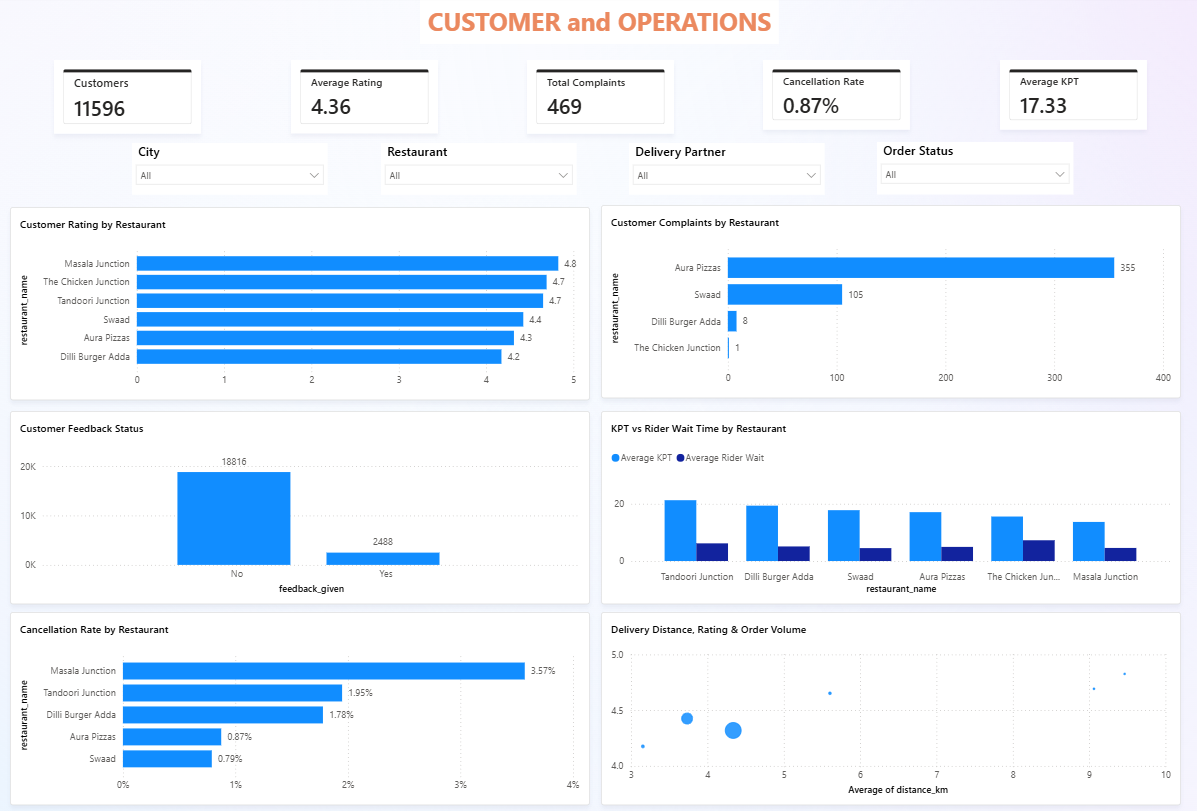

This screenshot's page, from the dashboard's own definition file:
{"tool":"powerbi","page":{"name":"Customer & Operations","canvas":[1550,1050],"ordinal":2},"visuals":[{"type":"textbox","box":[542.9,0,464.3,57.1],"z":0},{"type":"cardVisual","fields":{"Data":["order_history_clean_.Total Customers"]},"box":[70,77.1,190,95.7],"z":1000},{"type":"cardVisual","fields":{"Data":["order_history_clean_.Average Rating"]},"box":[375.7,77.1,190,95],"z":2000},{"type":"cardVisual","fields":{"Data":["order_history_clean_.Total Complaints"]},"box":[681.4,77.1,190,95.7],"z":3000},{"type":"cardVisual","fields":{"Data":["order_history_clean_.Cancellation Rate"]},"box":[987.1,77.1,190,90],"z":4000},{"type":"cardVisual","fields":{"Data":["order_history_clean_.Average KPT"]},"box":[1292.9,77.1,190,90],"z":5000},{"type":"barChart","title":"Customer Rating by Restaurant","fields":{"Category":["order_history_clean_.restaurant_name"],"Y":["Avg(order_history_clean_.rating_clean)"]},"box":[12.9,267.1,750,250],"z":6000},{"type":"barChart","title":"Customer Complaints by Restaurant","fields":{"Category":["order_history_clean_.restaurant_name"],"Y":["order_history_clean_.Total Complaints"]},"box":[777.1,265.7,750,250],"z":7000},{"type":"clusteredColumnChart","title":"KPT vs Rider Wait Time by Restaurant","fields":{"Category":["order_history_clean_.restaurant_name"],"Y":["order_history_clean_.Average KPT","order_history_clean_.Average Rider Wait"]},"box":[777.1,531.4,750,250],"z":8000},{"type":"barChart","title":"Cancellation Rate by Restaurant","fields":{"Category":["order_history_clean_.restaurant_name"],"Y":["order_history_clean_.Cancellation Rate"]},"box":[13,792,750,250],"z":9000},{"type":"scatterChart","title":"Delivery Distance, Rating & Order Volume","fields":{"X":["Avg(order_history_clean_.distance_km)"],"Y":["Avg(order_history_clean_.rating_clean)"],"Size":["order_history_clean_.Total Orders"],"Category":["order_history_clean_.restaurant_name"]},"box":[777,792,750,250],"z":10000},{"type":"slicer","fields":{"Values":["order_history_clean_.city"]},"box":[171.2,185,253,67],"z":11000},{"type":"slicer","fields":{"Values":["order_history_clean_.restaurant_name"]},"box":[492.1,185,253,67],"z":12000},{"type":"slicer","fields":{"Values":["order_history_clean_.delivery_partner"]},"box":[812.9,185,253,67],"z":13000},{"type":"slicer","fields":{"Values":["order_history_clean_.order_status"]},"box":[1133.8,183.8,253.8,67.5],"z":14000},{"type":"clusteredColumnChart","title":"Customer Feedback Status","fields":{"Category":["order_history_clean_.feedback_given"],"Y":["order_history_clean_.Total Orders"]},"box":[13,531,750,250],"z":15000}]}

Visuals, with their boxes in screenshot pixels (x1, y1, x2, y2), scaled from the page's 1550x1050 canvas onto the 1197x811 screenshot:
textbox: x1=419 y1=0 x2=778 y2=44
cardVisual - order_history_clean_.Total Customers: x1=54 y1=60 x2=201 y2=133
cardVisual - order_history_clean_.Average Rating: x1=290 y1=60 x2=437 y2=133
cardVisual - order_history_clean_.Total Complaints: x1=526 y1=60 x2=673 y2=133
cardVisual - order_history_clean_.Cancellation Rate: x1=762 y1=60 x2=909 y2=129
cardVisual - order_history_clean_.Average KPT: x1=998 y1=60 x2=1145 y2=129
"Customer Rating by Restaurant" barChart: x1=10 y1=206 x2=589 y2=399
"Customer Complaints by Restaurant" barChart: x1=600 y1=205 x2=1179 y2=398
"KPT vs Rider Wait Time by Restaurant" clusteredColumnChart: x1=600 y1=410 x2=1179 y2=604
"Cancellation Rate by Restaurant" barChart: x1=10 y1=612 x2=589 y2=805
"Delivery Distance, Rating & Order Volume" scatterChart: x1=600 y1=612 x2=1179 y2=805
slicer - order_history_clean_.city: x1=132 y1=143 x2=328 y2=195
slicer - order_history_clean_.restaurant_name: x1=380 y1=143 x2=575 y2=195
slicer - order_history_clean_.delivery_partner: x1=628 y1=143 x2=823 y2=195
slicer - order_history_clean_.order_status: x1=876 y1=142 x2=1072 y2=194
"Customer Feedback Status" clusteredColumnChart: x1=10 y1=410 x2=589 y2=603
